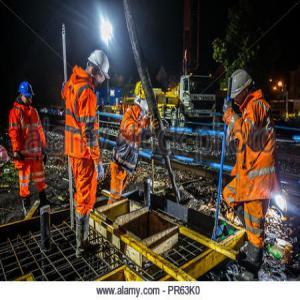blue: (19, 82, 35, 106)
white: (230, 69, 255, 106), (86, 50, 111, 86), (136, 95, 150, 119)
